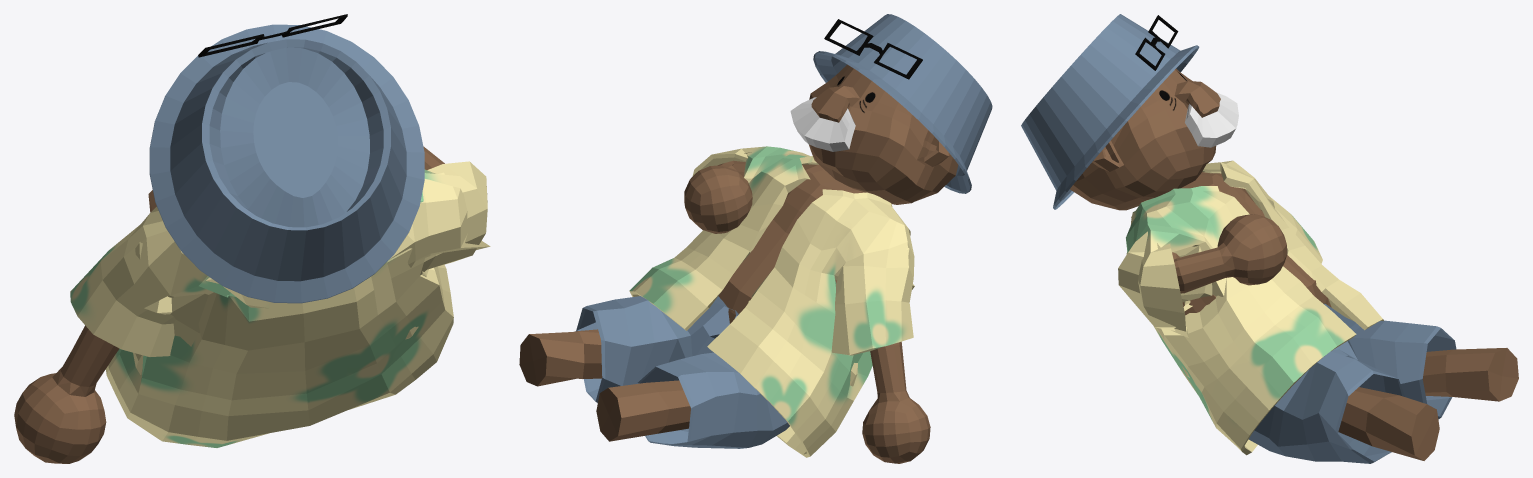
File: pedro.glb
3 renders of one model, left to right at view 1: azimuth 30°, elevation 25°; view 2: azimuth 150°, elevation 25°; view 3: azimuth 270°, elevation 25°, orthographic. The views are drawn at different scales.
Parts seen in each view (by area): view 1: pedro.001; view 2: pedro.001; view 3: pedro.001.
Boxes of the visible parts, x1,y1,x2,y2 form: pedro.001: (14, 14, 490, 463); pedro.001: (519, 14, 992, 463); pedro.001: (1021, 14, 1518, 463).
Bounding box in the file's own units: 1.26 × 1.28 × 1.48.
5 materials, 3 textured.
